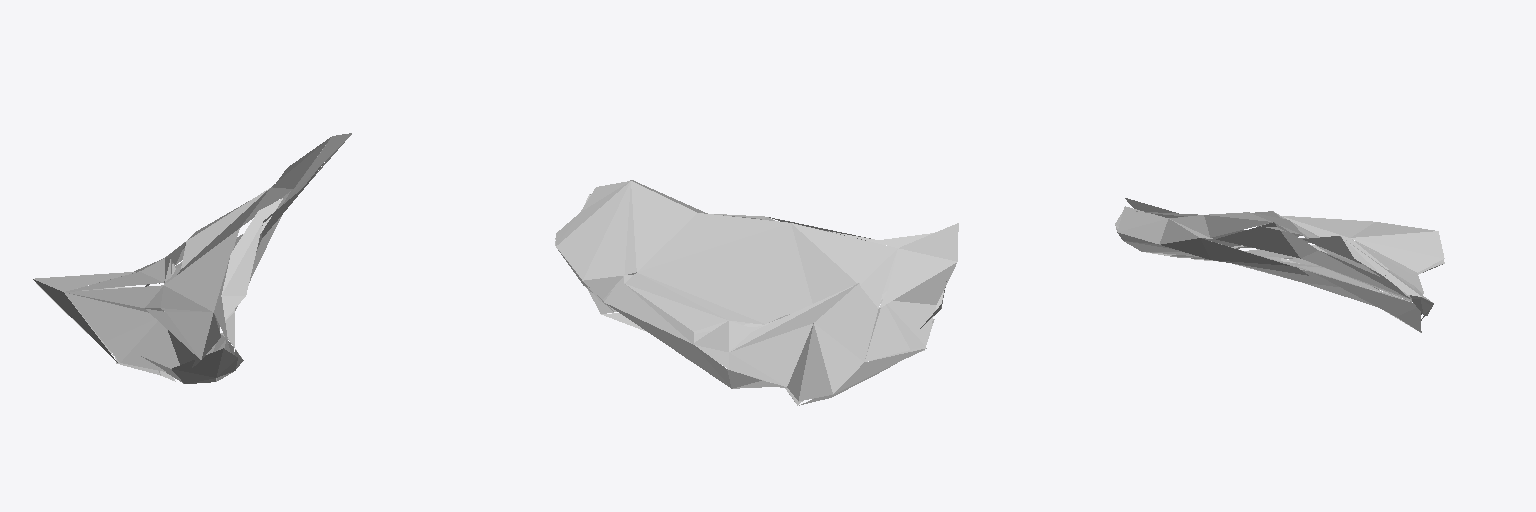
Rendered from FJ215_BP2573_FMA55609_Left_depressor_septi_nasi.obj.
The picture shows the model from 3 angles: view 1: azimuth 30°, elevation 25°; view 2: azimuth 150°, elevation 25°; view 3: azimuth 270°, elevation 25°; orthographic projection.
Parts seen in each view (by area): view 1: FJ215_BP2573_FMA55609_Left_depressor_septi_nasi; view 2: FJ215_BP2573_FMA55609_Left_depressor_septi_nasi; view 3: FJ215_BP2573_FMA55609_Left_depressor_septi_nasi.
Part boxes in pixels (x1,y1,x2,y2): FJ215_BP2573_FMA55609_Left_depressor_septi_nasi: (33, 133, 351, 383); FJ215_BP2573_FMA55609_Left_depressor_septi_nasi: (555, 180, 958, 405); FJ215_BP2573_FMA55609_Left_depressor_septi_nasi: (1115, 198, 1444, 332).
Size of the model in its own units: 16.11 by 7.5 by 15.55.